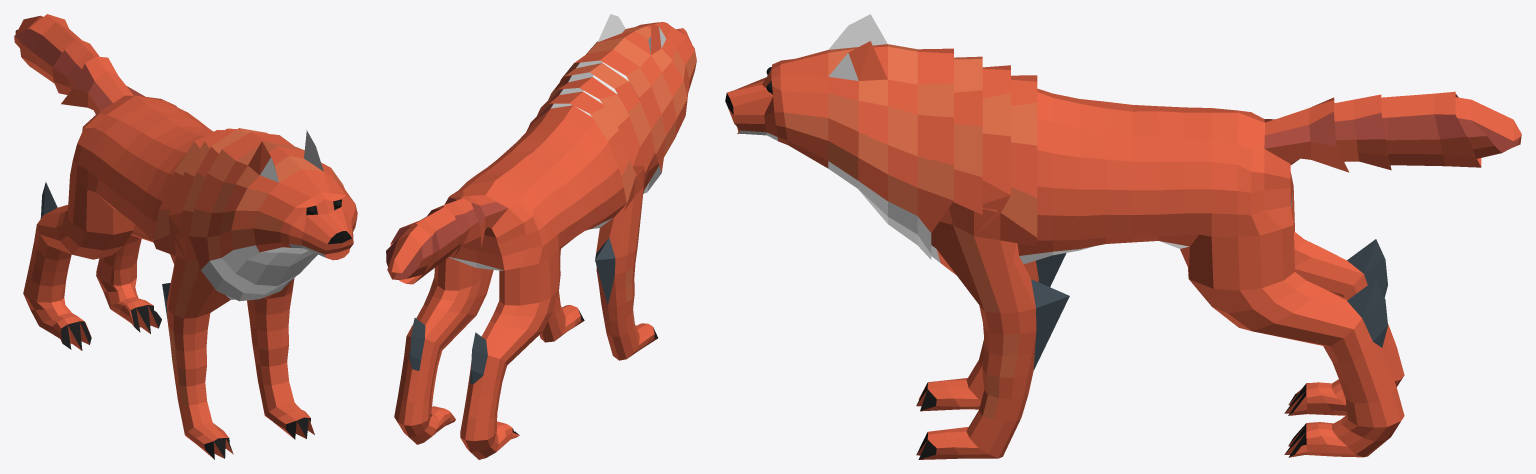
File: Wolf_3D.fbx
3 renders of one model, left to right at view 1: azimuth 30°, elevation 25°; view 2: azimuth 150°, elevation 25°; view 3: azimuth 270°, elevation 25°, orthographic. The views are drawn at different scales.
Parts seen in each view (by area): view 1: Loup; view 2: Loup; view 3: Loup.
Part boxes in pixels (<box>): Loup: <box>14,14,357,459</box>; Loup: <box>386,14,696,459</box>; Loup: <box>725,14,1521,459</box>.
Bounding box in the file's own units: 696 × 1733 × 3061.
